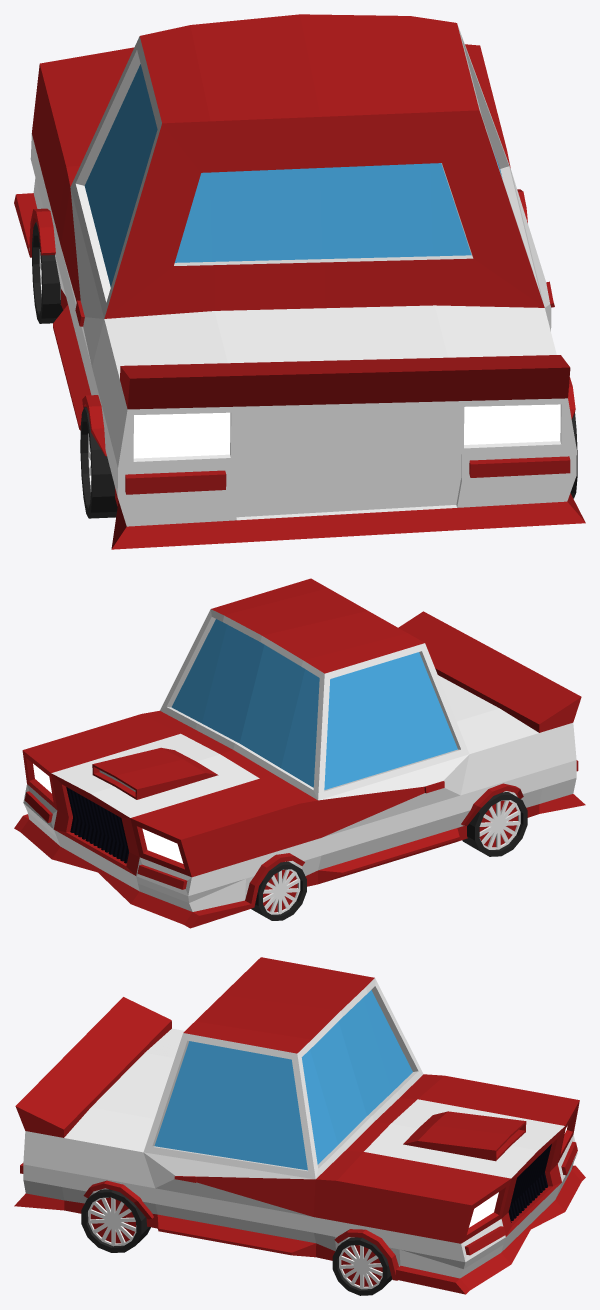
File: CarRace.FBX
The picture shows the model from 3 angles, top to bottom: view 1: azimuth 30°, elevation 25°; view 2: azimuth 150°, elevation 25°; view 3: azimuth 270°, elevation 25°; orthographic projection. The views are drawn at different scales.
Visible parts, largest first — view 1: body, backlight, wheel_1, wheel1_1, front_fender, rear_fender; view 2: body, wheel_1, lattice_1, wheel1_1, headlight, front_fender, rear_fender; view 3: body, wheel_1, wheel1_1, lattice_1, front_fender, rear_fender, headlight.
Boxes of the visible parts, x1,y1,x2,y2 form: body: (14,14,585,549); backlight: (133,404,560,458); wheel_1: (80,407,577,518); wheel1_1: (32,222,63,323); front_fender: (29,189,527,257); rear_fender: (82,377,575,456); body: (14,578,585,928); wheel_1: (462,792,527,856); lattice_1: (66,787,128,863); wheel1_1: (251,861,306,920); headlight: (33,763,183,863); front_fender: (245,853,304,908); rear_fender: (461,783,523,825); body: (14,957,585,1294); wheel_1: (81,1189,150,1252); wheel1_1: (332,1237,392,1295); lattice_1: (508,1144,551,1222); front_fender: (334,1229,398,1280); rear_fender: (83,1180,153,1219); headlight: (469,1126,567,1227).
Bounding box in the file's own units: 2162 × 1111 × 2640.
